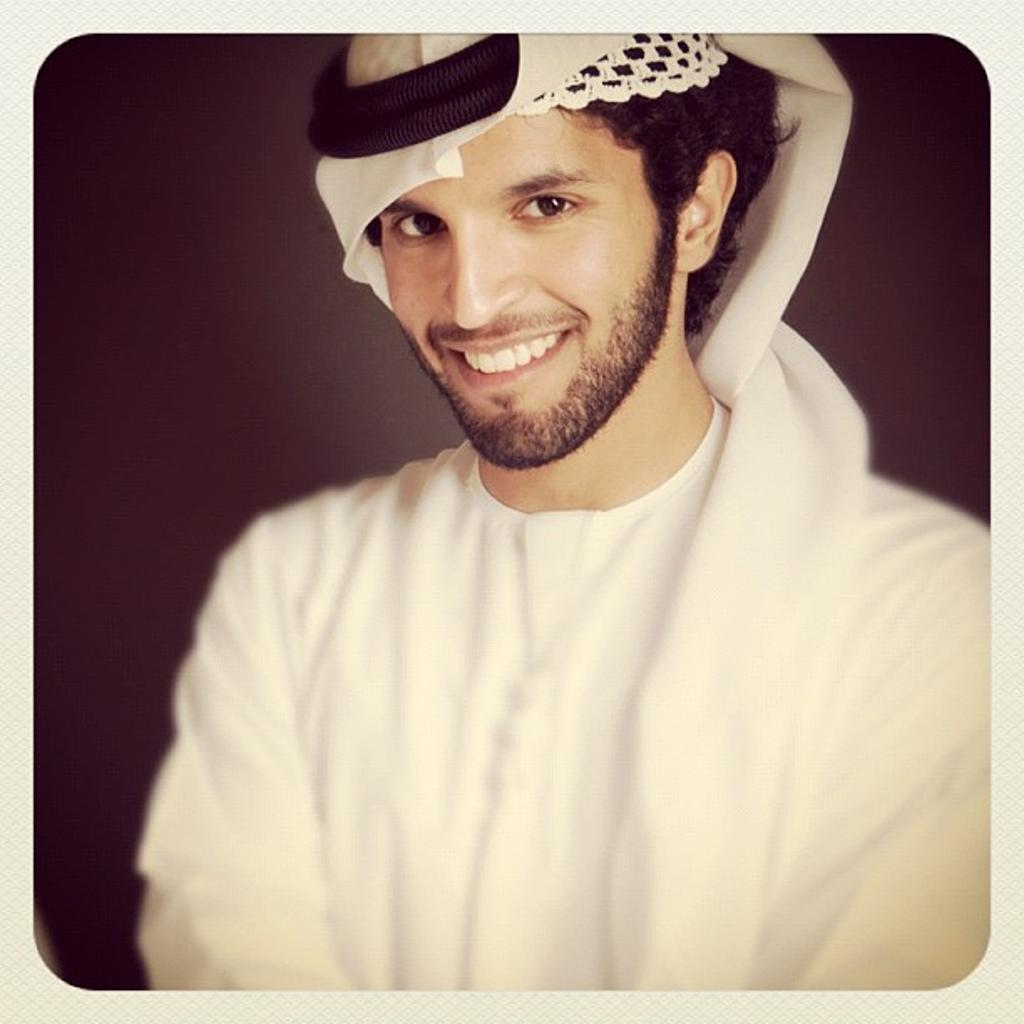face: (374, 88, 668, 462)
